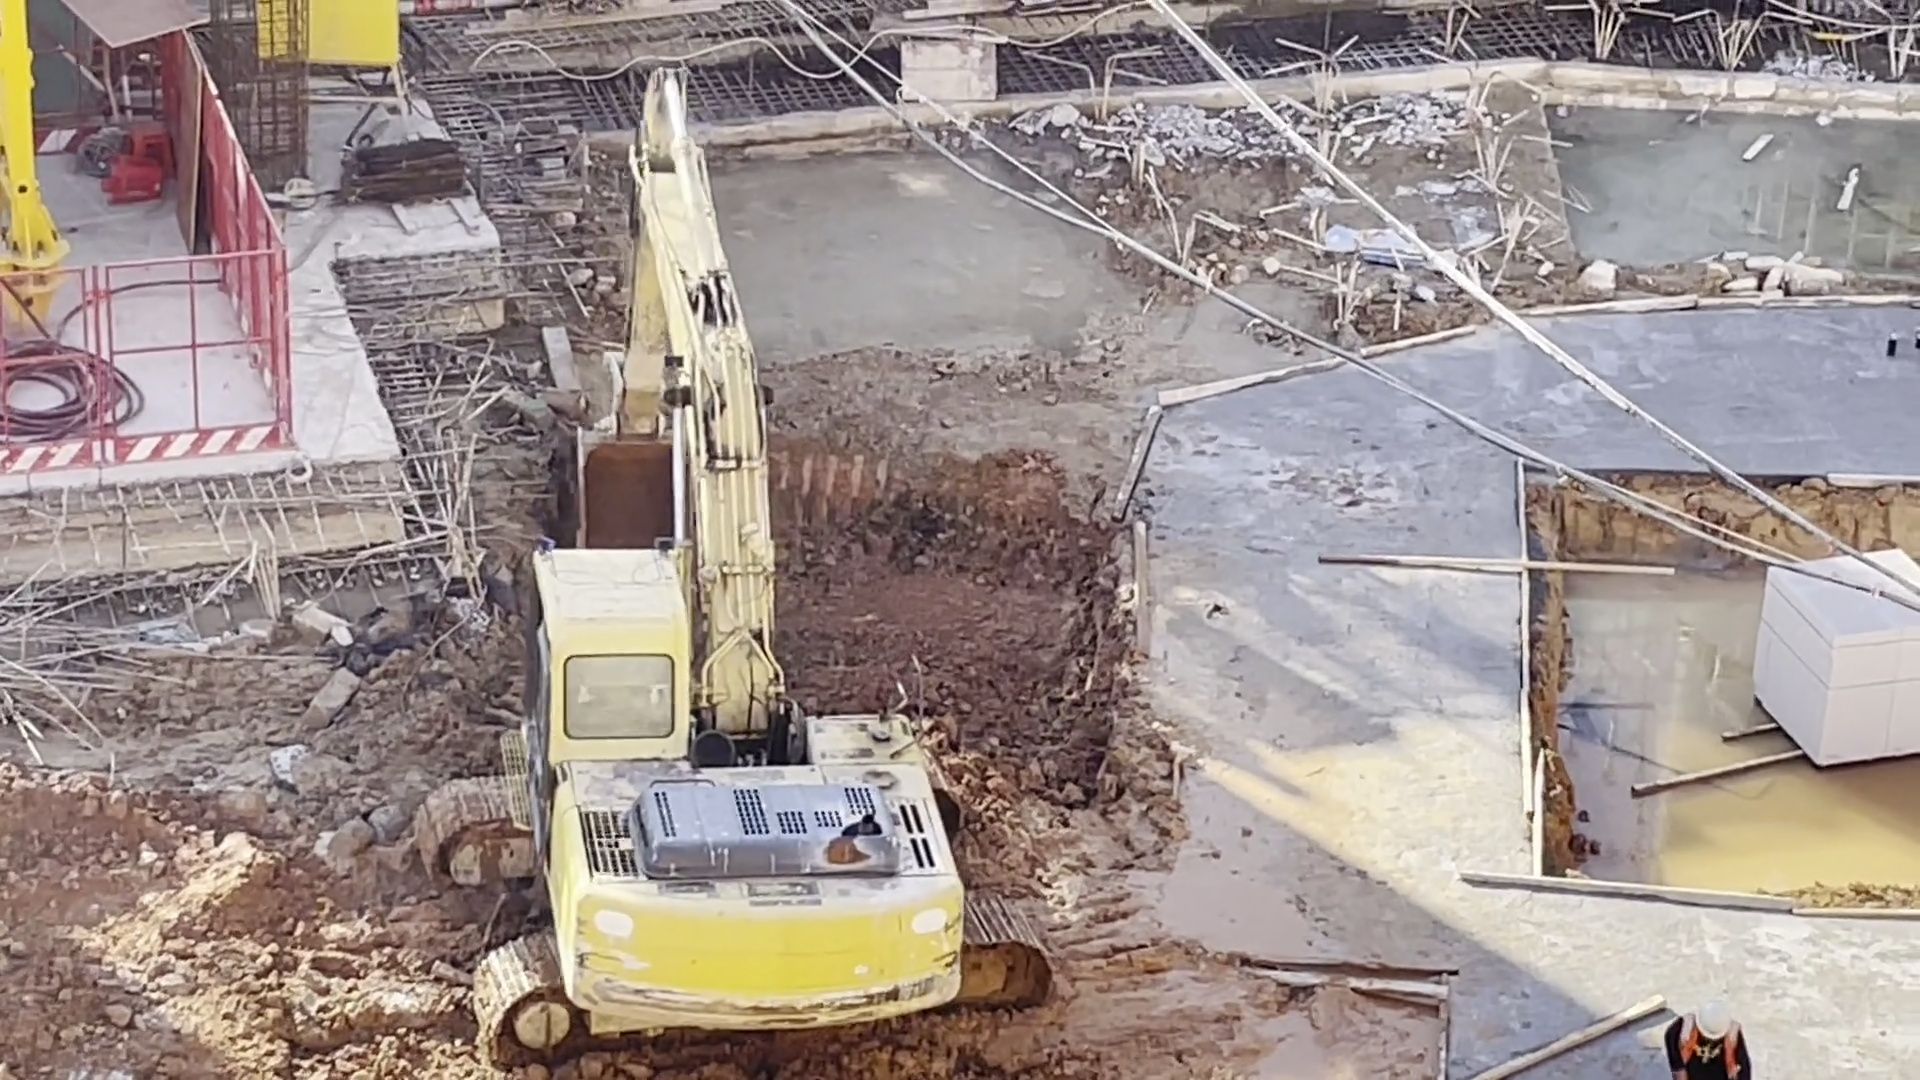brick: (1741, 617, 1920, 777)
ebox: (306, 2, 418, 138)
fence: (17, 248, 287, 461), (204, 75, 281, 256)
helmet: (1695, 1000, 1737, 1043)
person: (1648, 1000, 1754, 1080)
